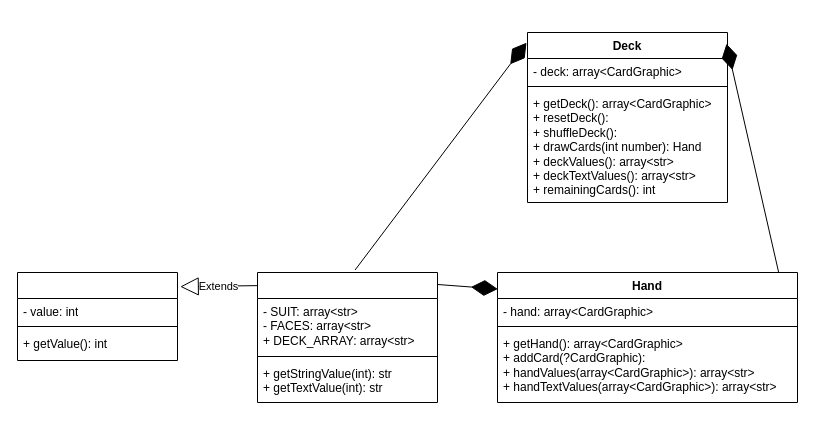
The diagram is 823 pixels wide and 423 high, and some of its shapes have lost their labels. The shapes that lost their labels are listed below. From the top down, each one's box as (x1, y1, x2, y2) in pixels, then its label:
(16, 272, 178, 360): Card
(256, 272, 438, 402): CardGraphic
